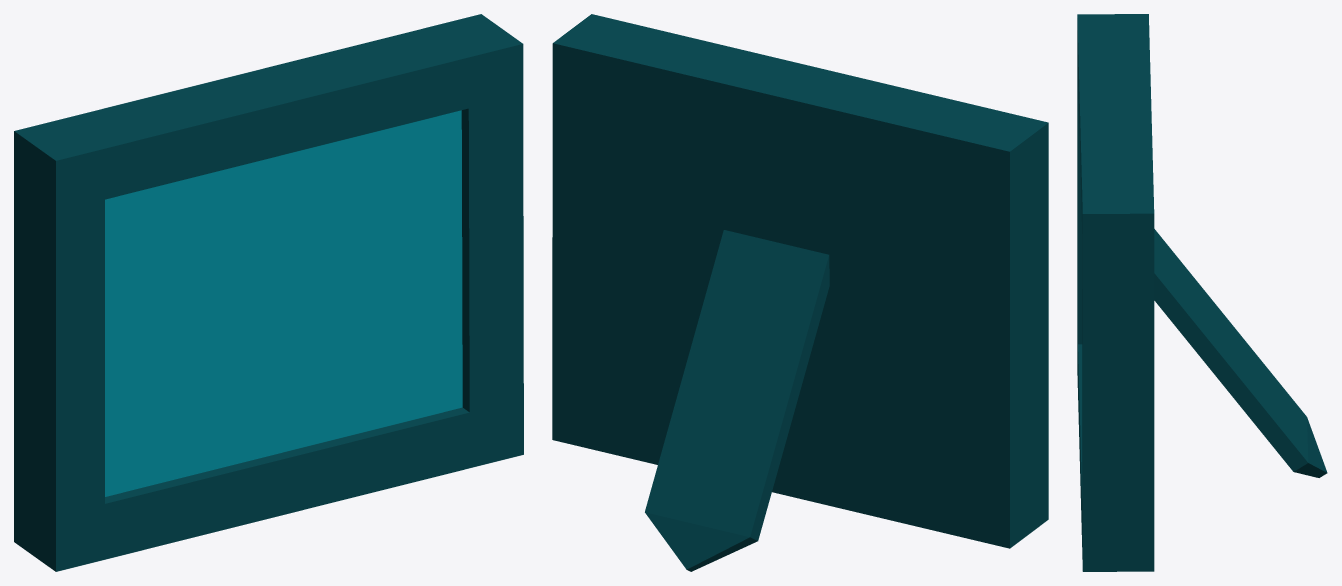
The model's file is portaretrato.fbx.
The picture shows the model from 3 angles, left to right: view 1: azimuth 30°, elevation 25°; view 2: azimuth 150°, elevation 25°; view 3: azimuth 270°, elevation 25°; orthographic projection. The views are drawn at different scales.
Visible parts, largest first — view 1: base, vidrio; view 2: base; view 3: base.
Part boxes in pixels (x1,y1,x2,y2): base: (14, 14, 523, 571); vidrio: (105, 110, 462, 496); base: (552, 14, 1048, 571); base: (1077, 14, 1327, 571).
Size of the model in its own units: 0.8024 by 0.6829 by 0.4235.
